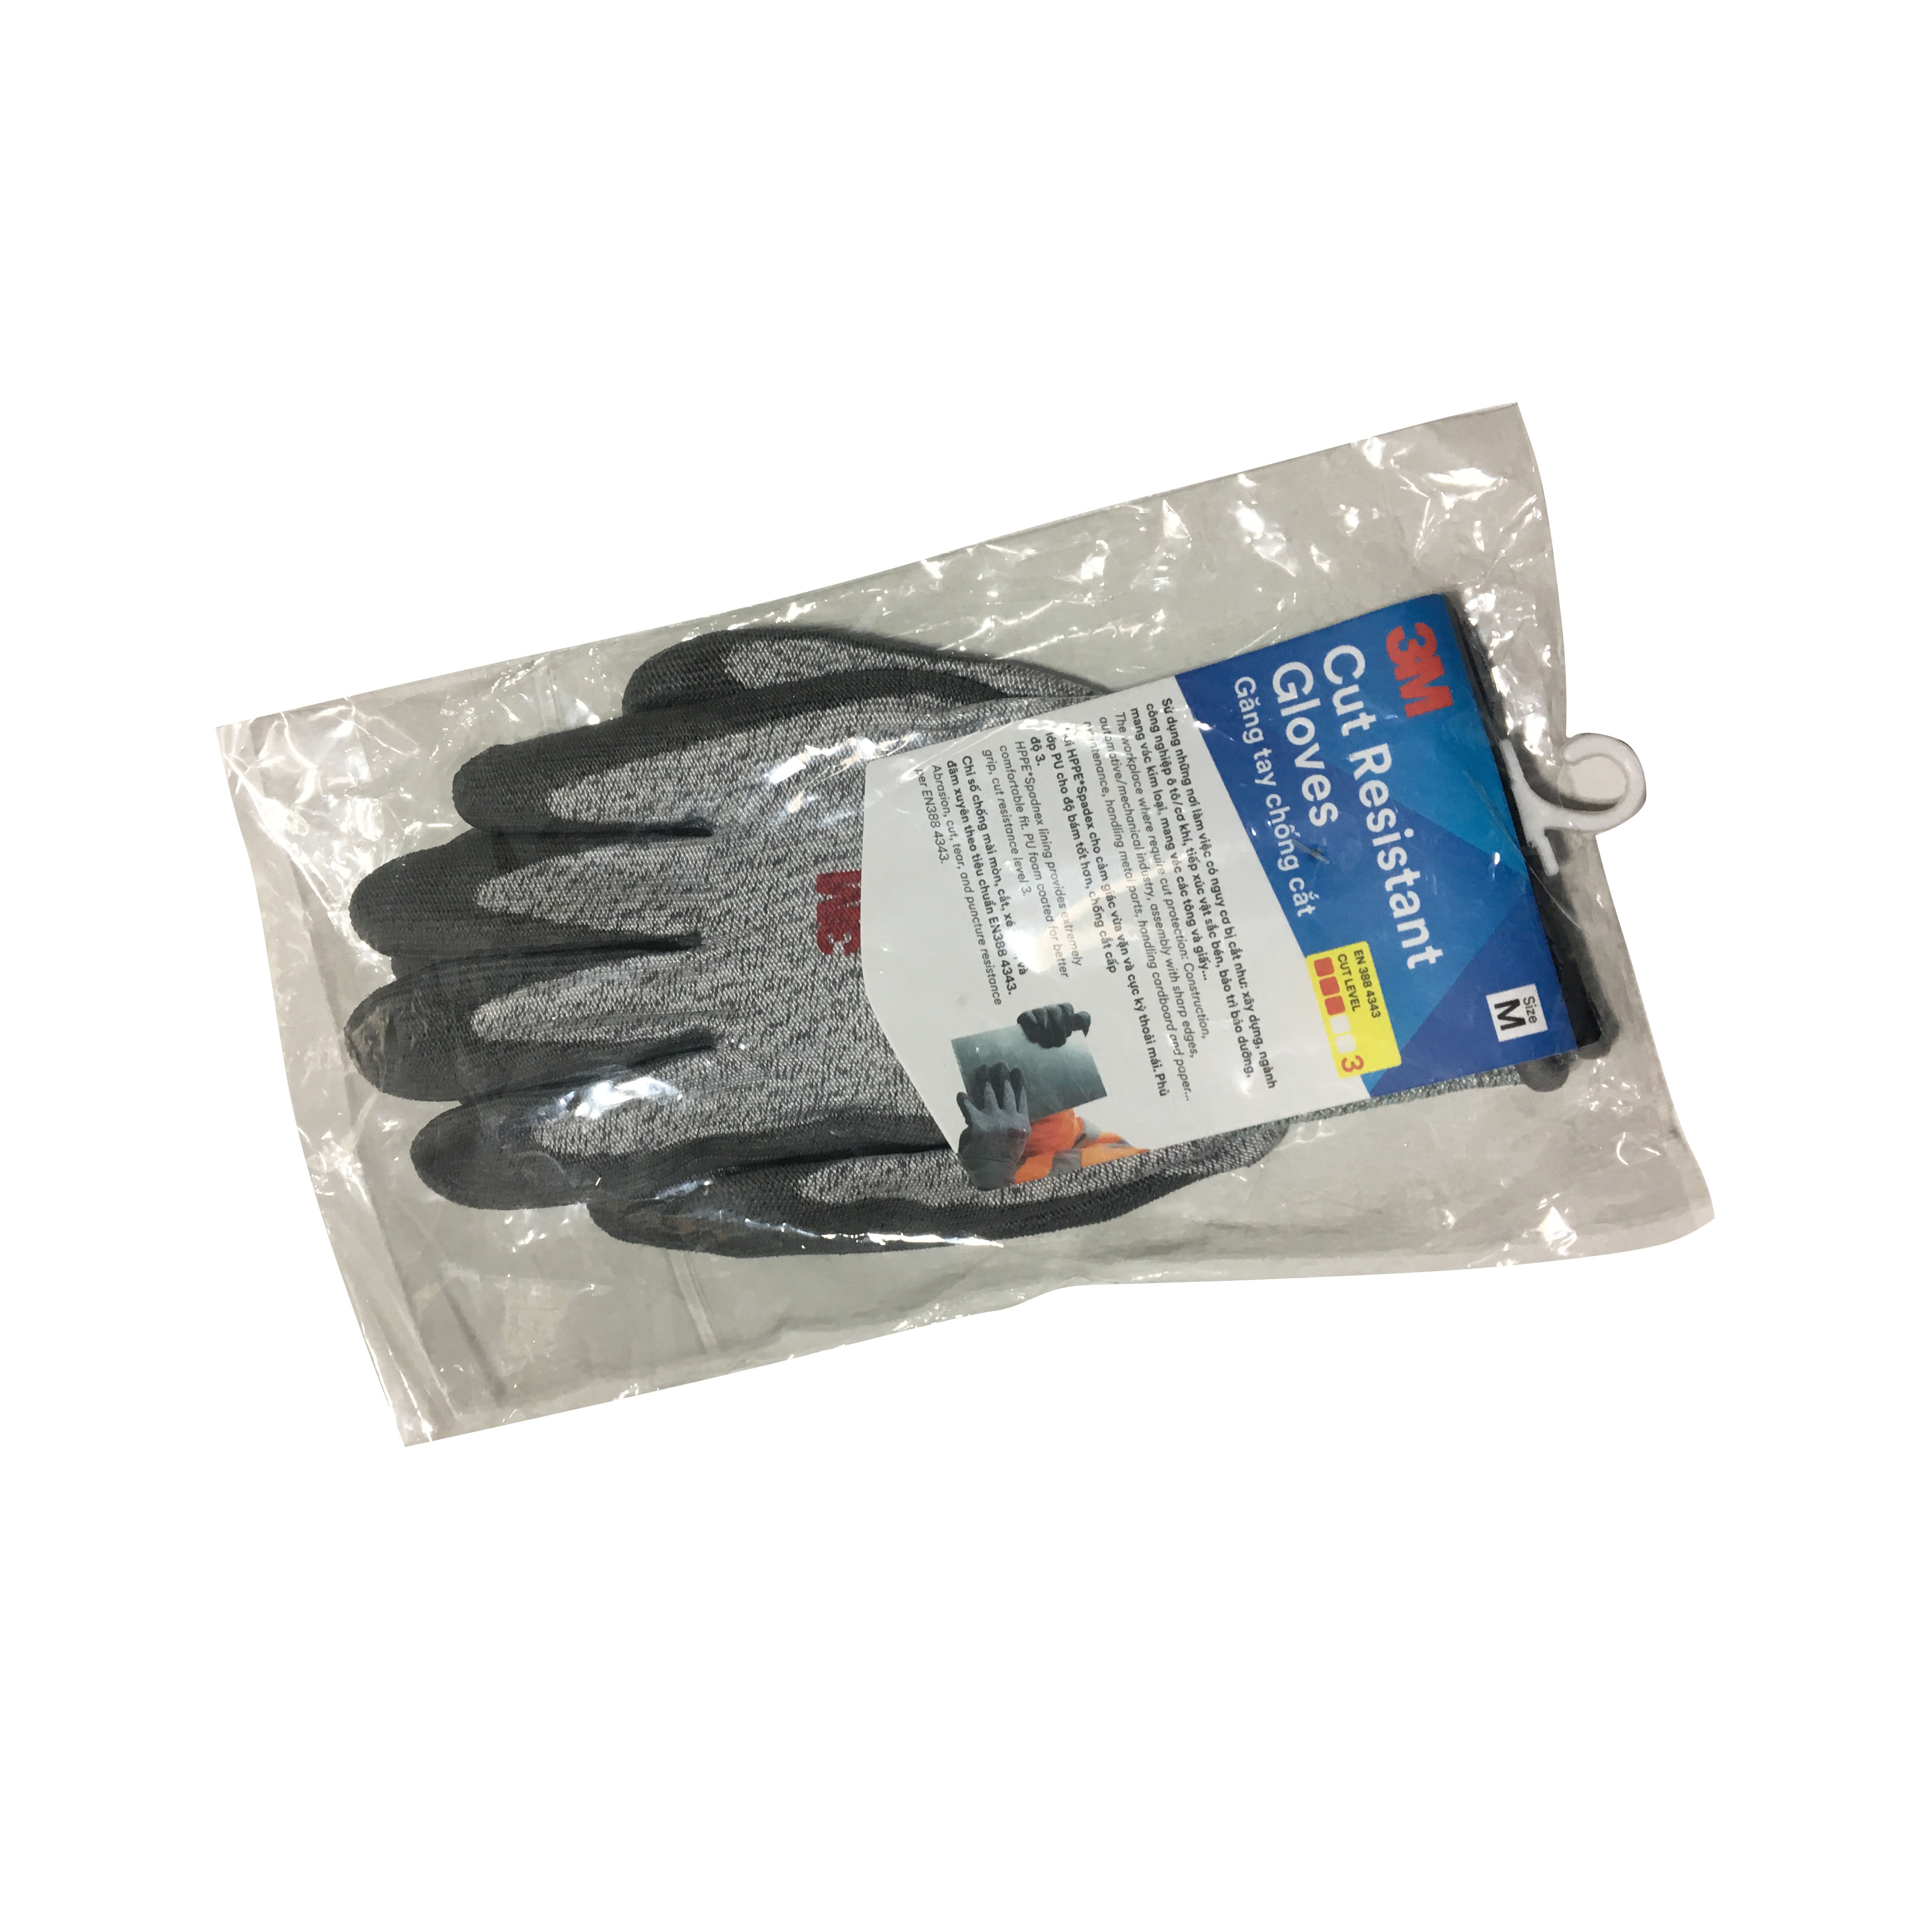3M: (1371, 610, 1465, 731), (812, 855, 876, 989)
